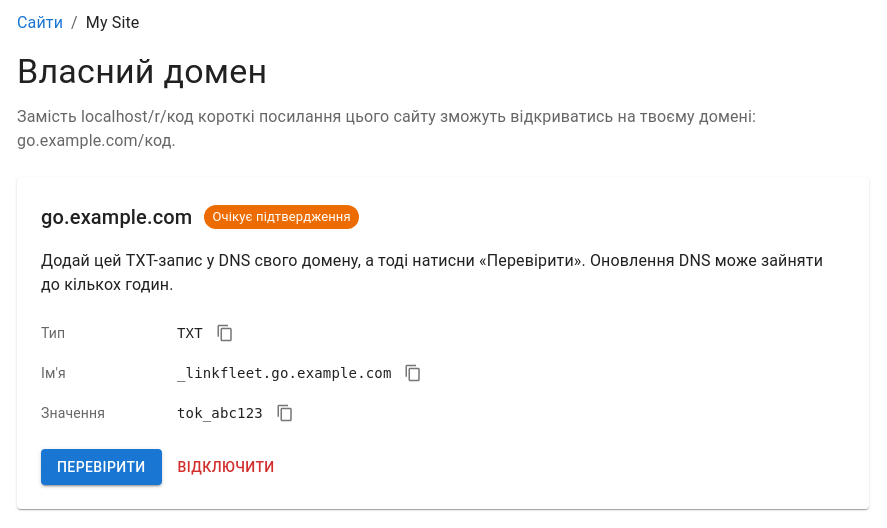
Scenario: SiteDomainPage › verifies a pending domain
Click the button "Перевірити" at (101, 467), box left=41, top=449, right=162, bottom=485
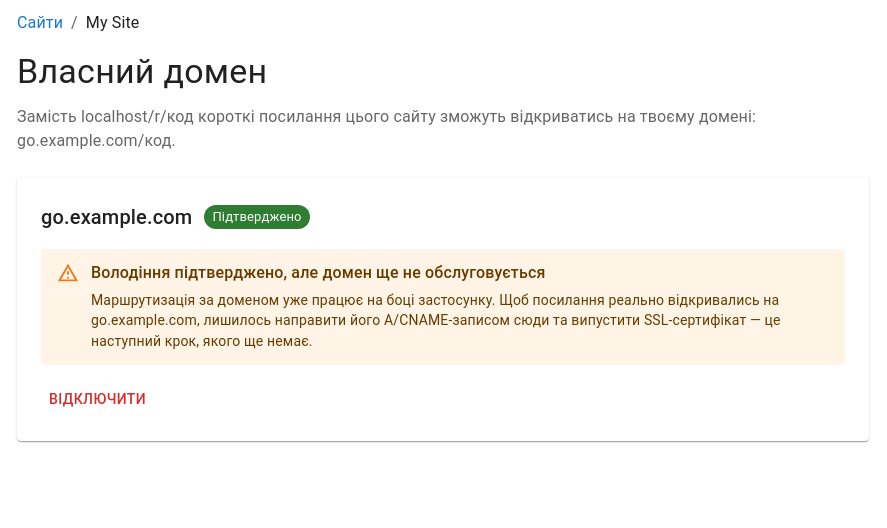
expect the text "Підтверджено" is shown: met, box left=212, top=209, right=302, bottom=224
